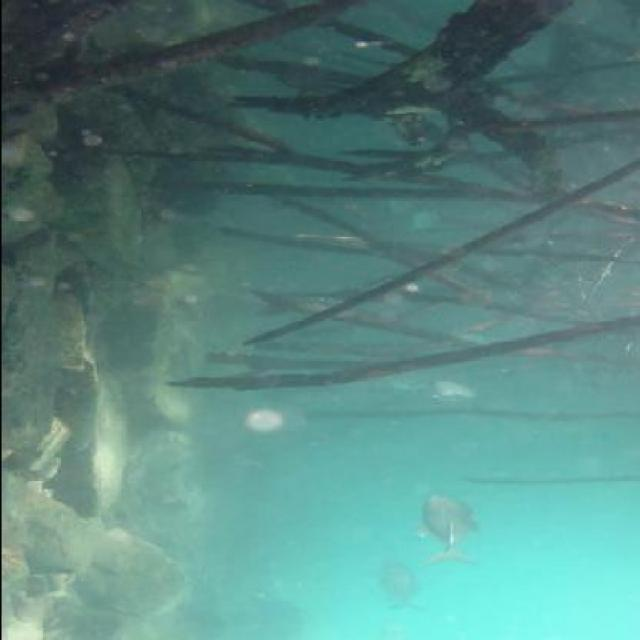Caranx_sexfasciatus_juvenile: (403, 492, 480, 562), (362, 559, 422, 615), (426, 378, 479, 404), (371, 371, 435, 392)
